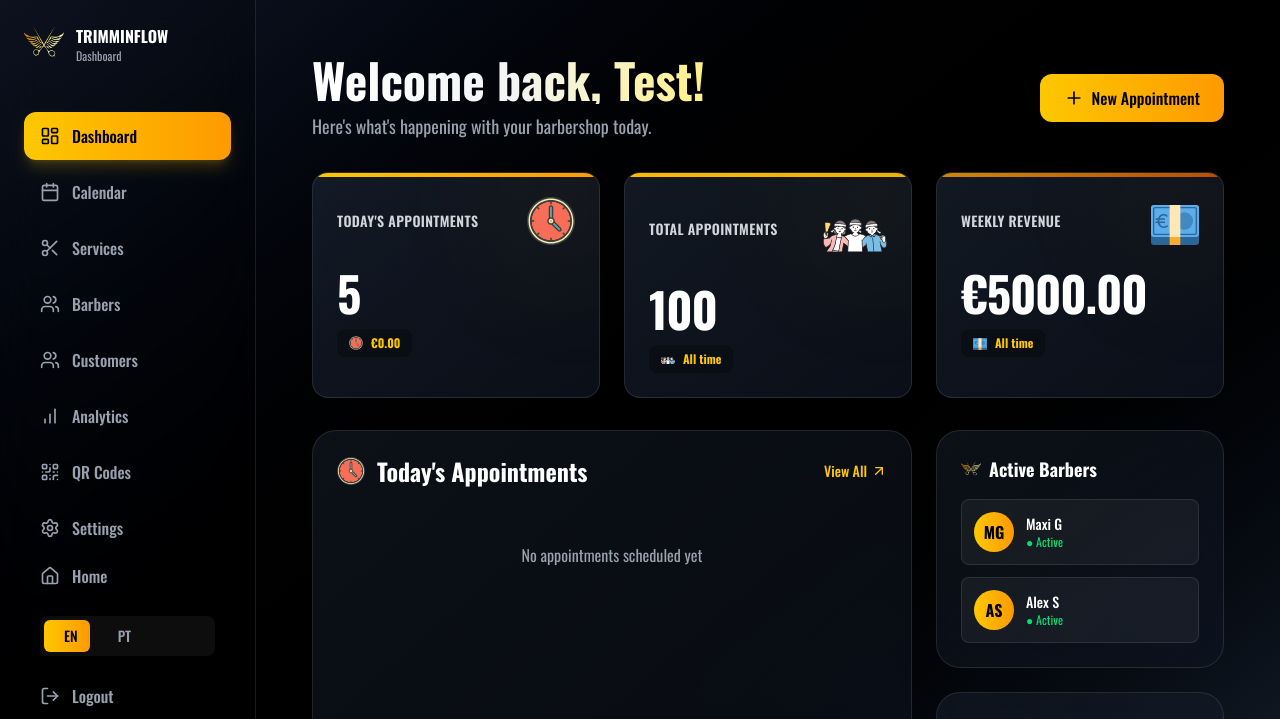
it: Dashboard › should navigate to Calendar
The width and height of the screenshot is (1280, 719).
Click the link to "/dashboard/calendar". click: (84, 192)
box: x1=40 y1=180 x2=127 y2=204
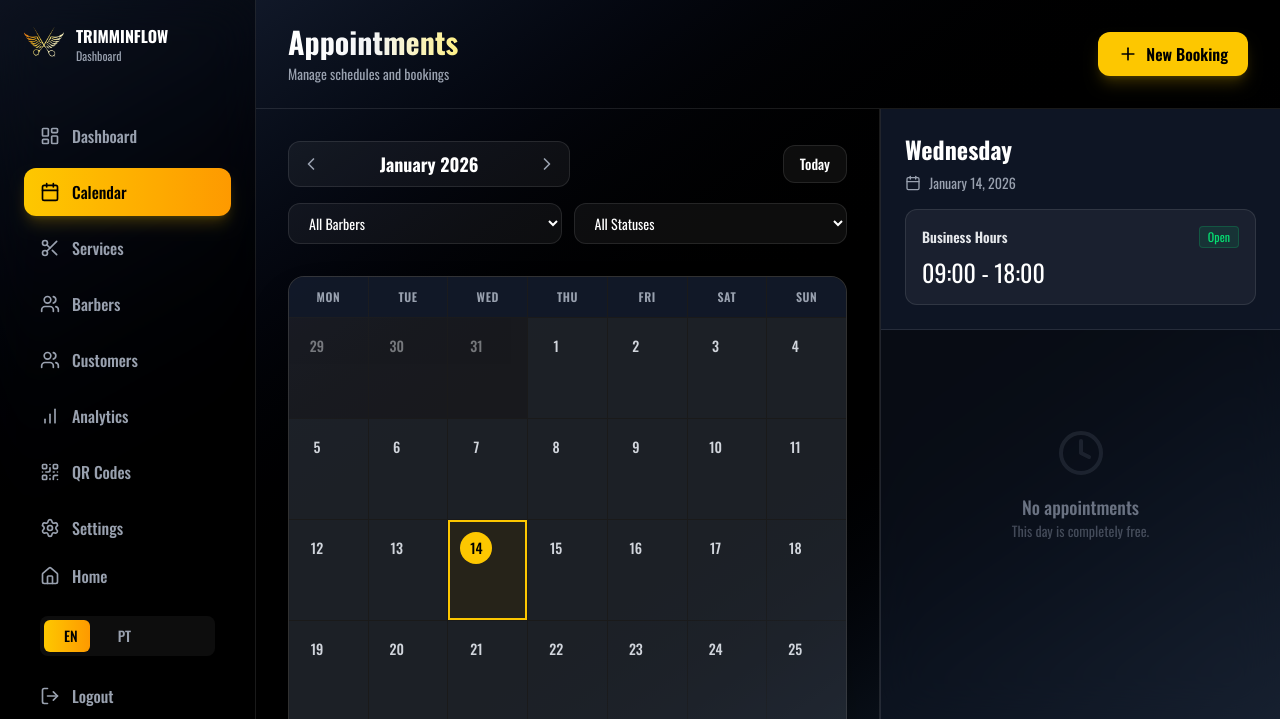
Check: the heading "Appointments" is shown, box x1=288 y1=24 x2=458 y2=60
